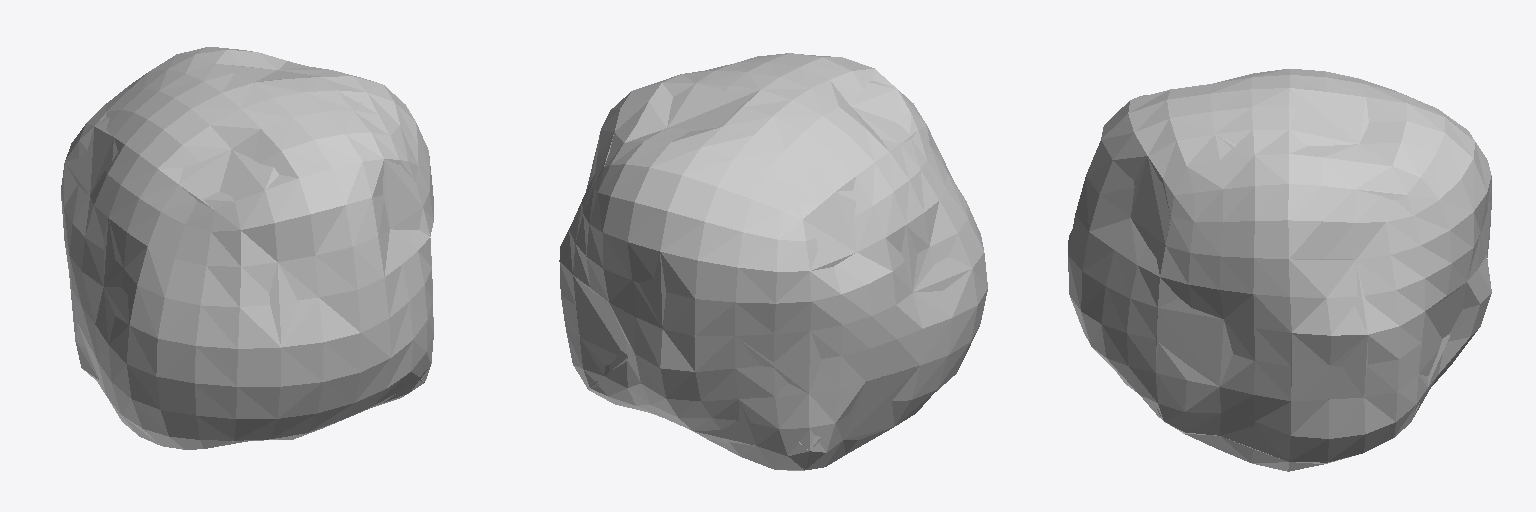
The model's file is Asteroid.obj.
The picture shows the model from 3 angles: view 1: azimuth 30°, elevation 25°; view 2: azimuth 150°, elevation 25°; view 3: azimuth 270°, elevation 25°; orthographic projection.
Visible parts, largest first — view 1: Asteroid_LOD0_AsteroidHigh, Asteroid_LOD1_AsteroidMid; view 2: Asteroid_LOD0_AsteroidHigh, Asteroid_LOD1_AsteroidMid; view 3: Asteroid_LOD0_AsteroidHigh, Asteroid_LOD1_AsteroidMid.
Part boxes in pixels (left/top/right/bottom): Asteroid_LOD0_AsteroidHigh: left=61, top=47, right=433, bottom=449; Asteroid_LOD1_AsteroidMid: left=65, top=64, right=433, bottom=448; Asteroid_LOD0_AsteroidHigh: left=559, top=53, right=987, bottom=470; Asteroid_LOD1_AsteroidMid: left=562, top=64, right=971, bottom=449; Asteroid_LOD0_AsteroidHigh: left=1068, top=69, right=1491, bottom=471; Asteroid_LOD1_AsteroidMid: left=1131, top=88, right=1491, bottom=461.
Bounding box in the file's own units: 1.36 × 1.3 × 1.48.